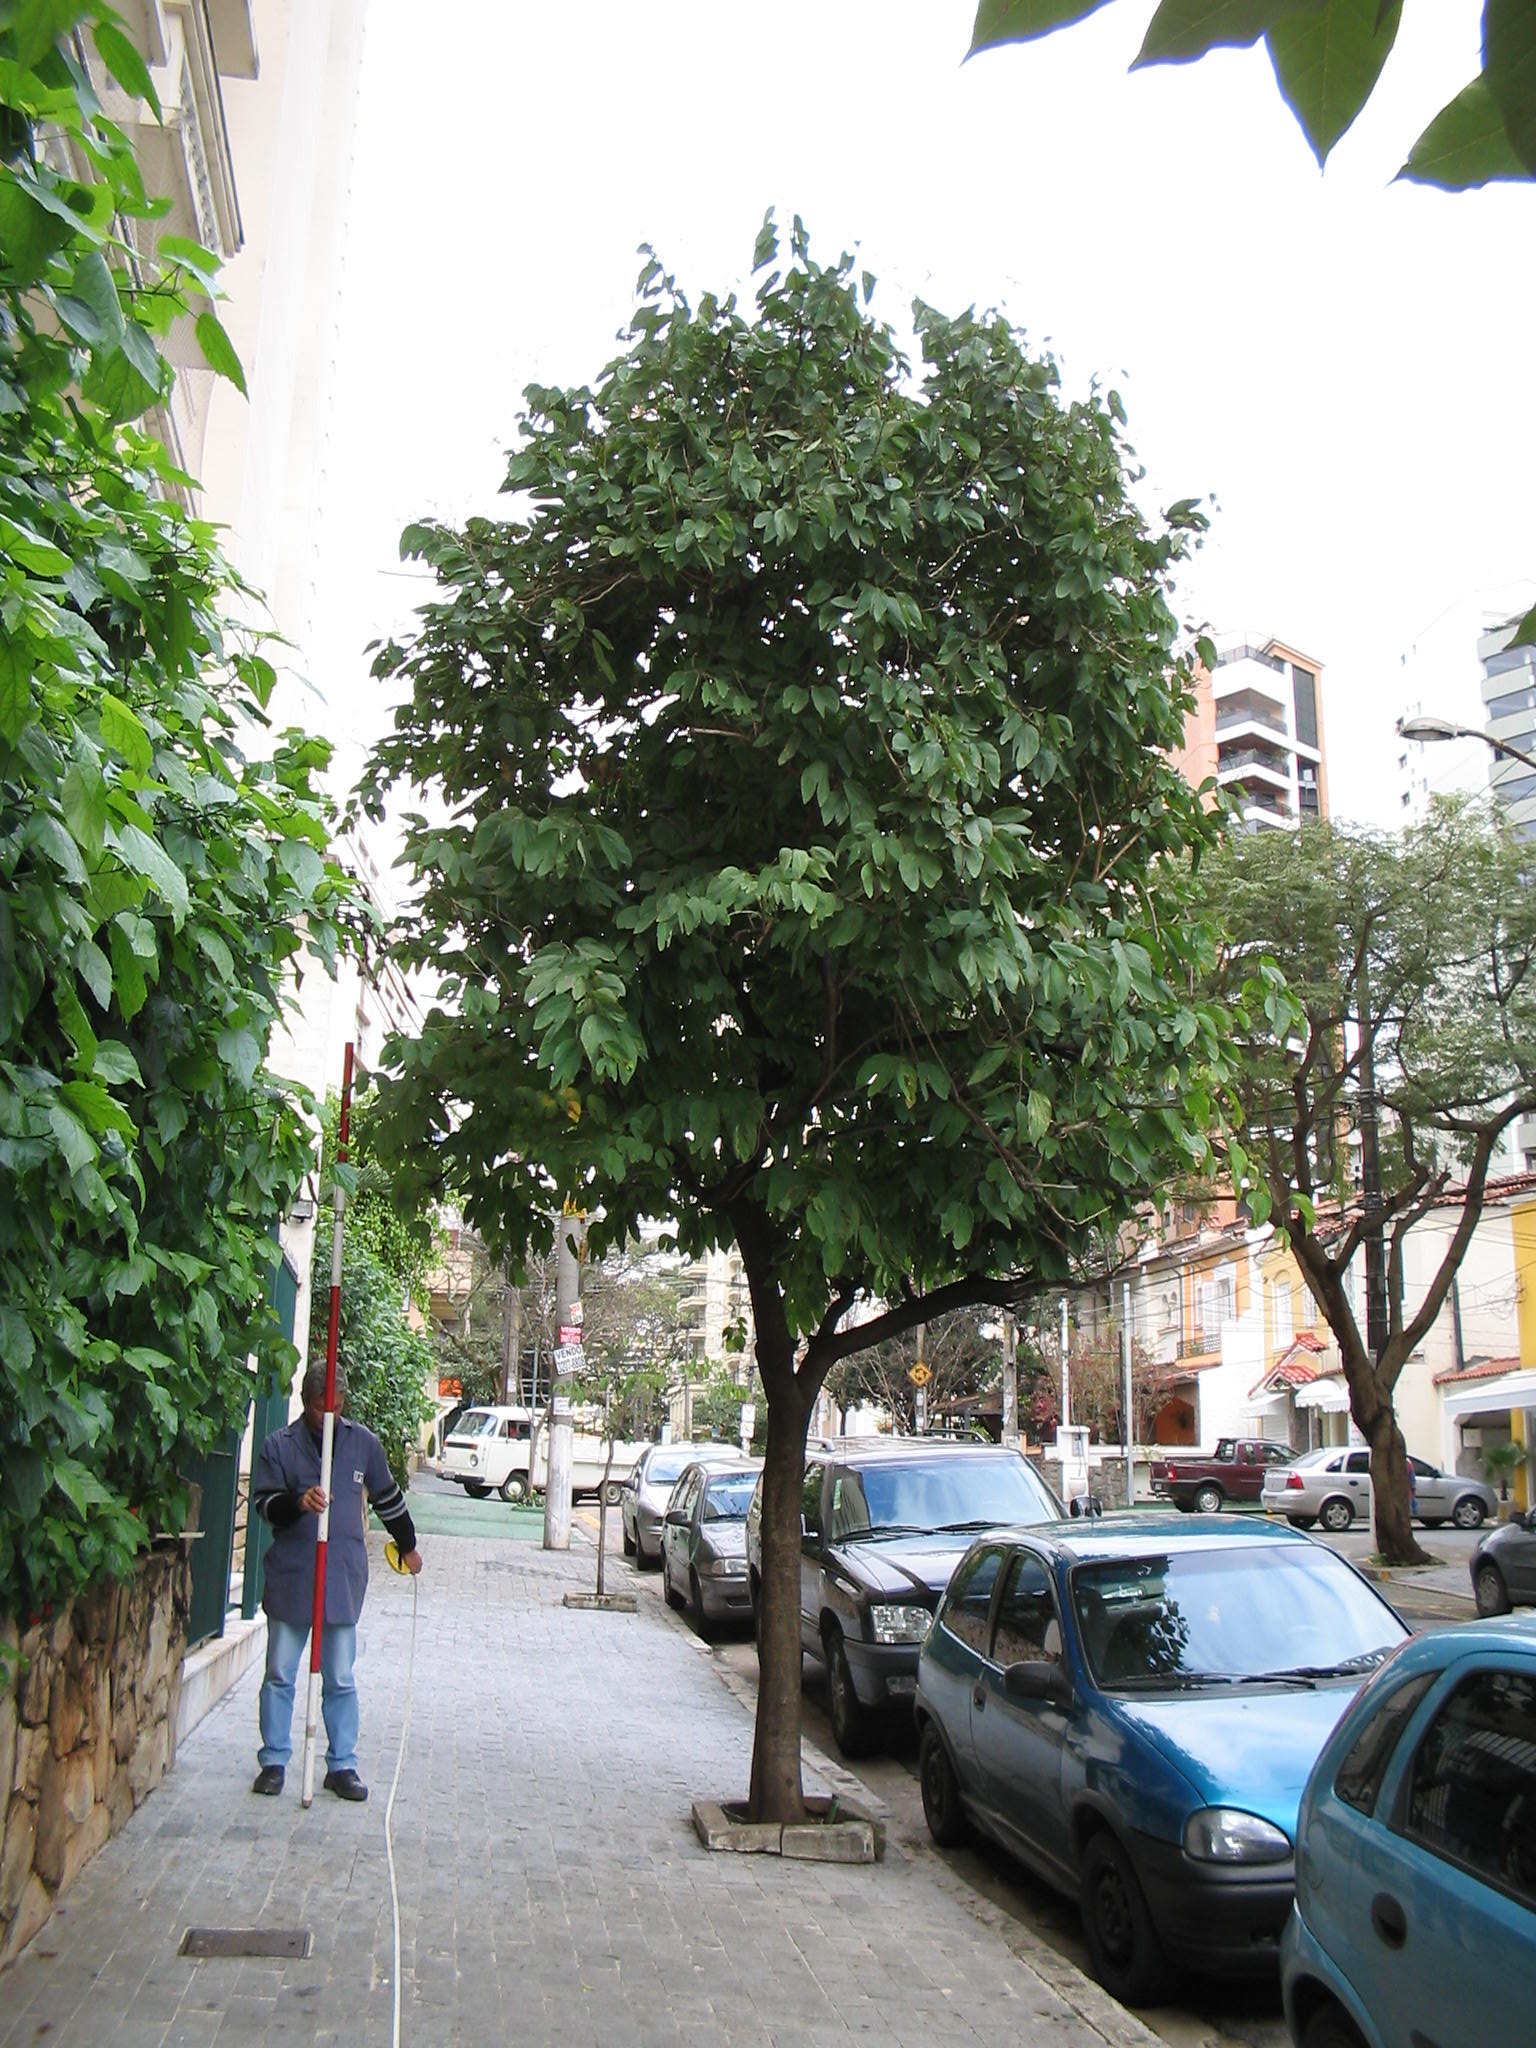crown: (365, 210, 1321, 1326)
stem: (687, 1369, 879, 1822)
stick: (266, 1040, 390, 1813)
tree: (353, 206, 1326, 1817)
